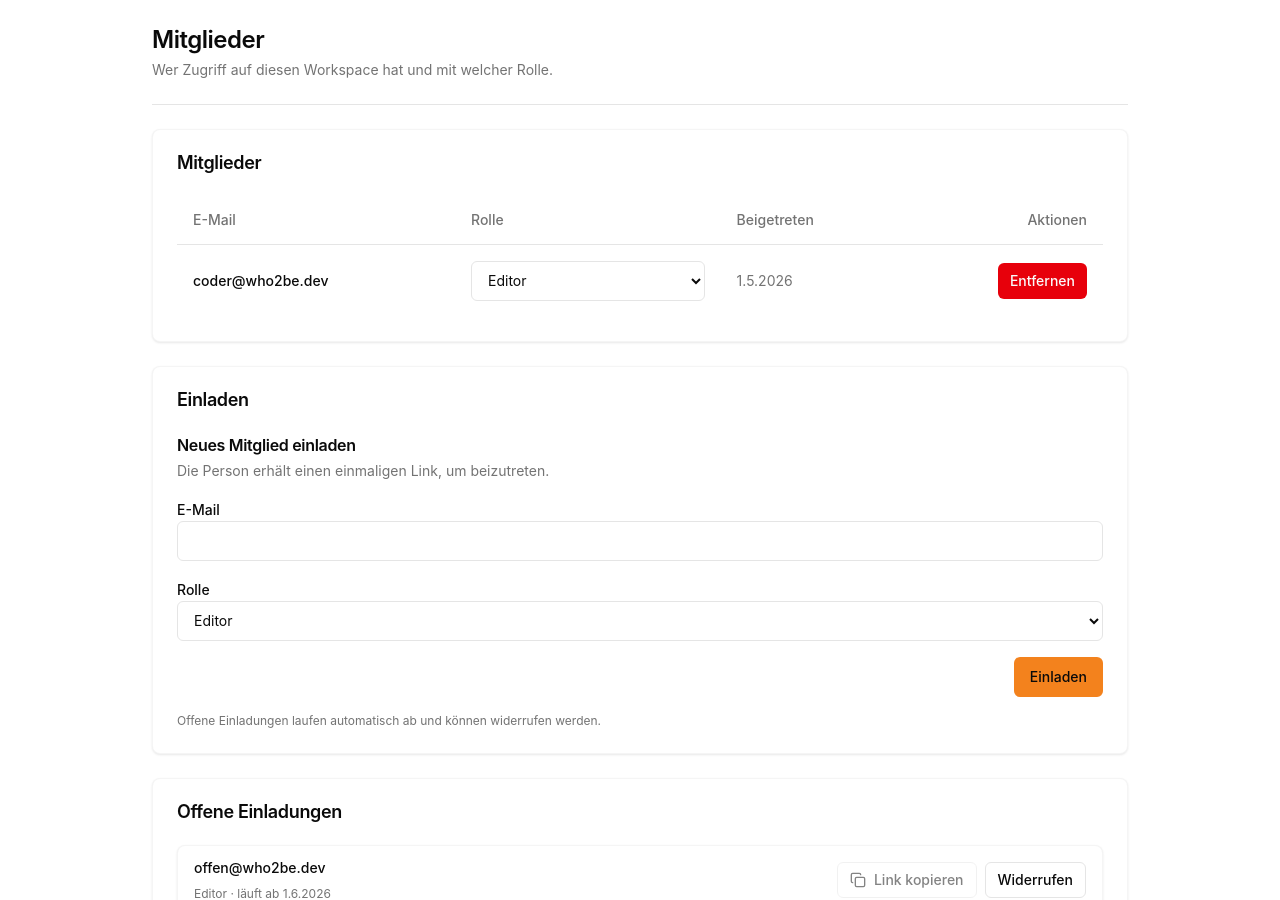
Test: MembersPage — Invitations › widerruft eine Invitation via DELETE und laedt die Liste neu
Click the button "Widerrufen" at (1035, 880), box [984,862,1086,898]
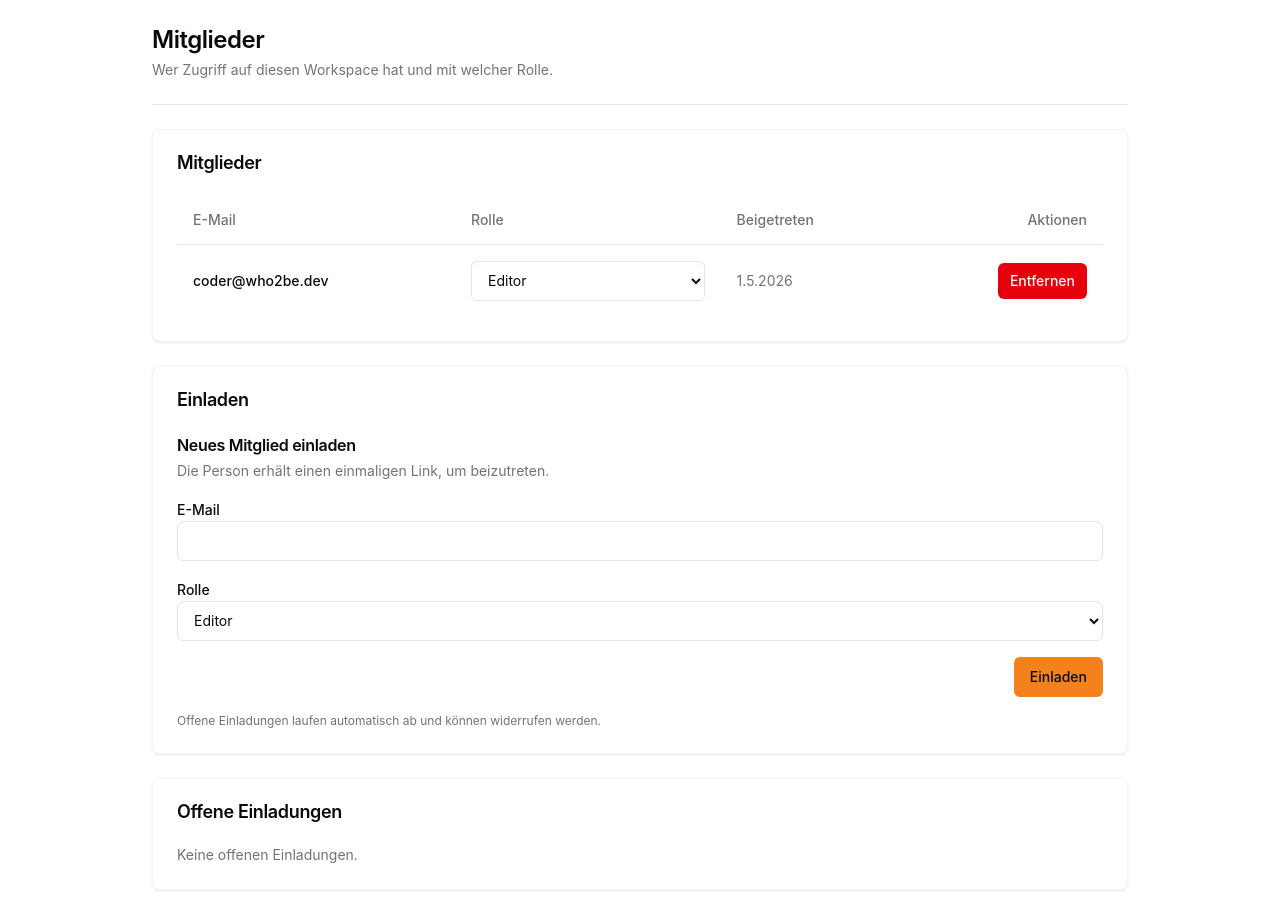
Expected: the text "Keine offenen Einladungen." is shown, [177,846,358,862]
